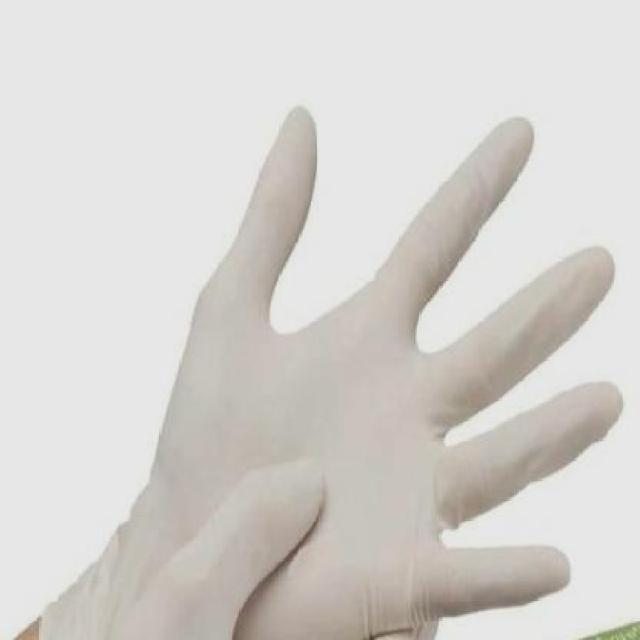glove: (25, 101, 620, 638)
